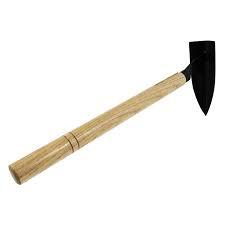HOUE: (0, 35, 225, 225)
